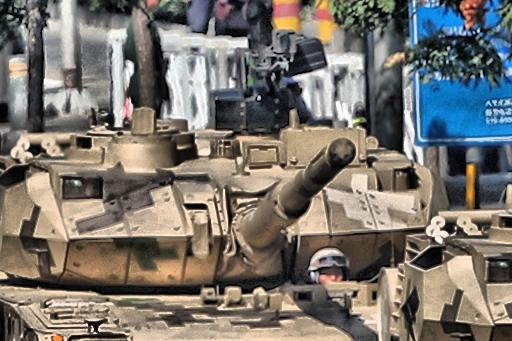tanks: (2, 109, 445, 341), (381, 209, 512, 341)
